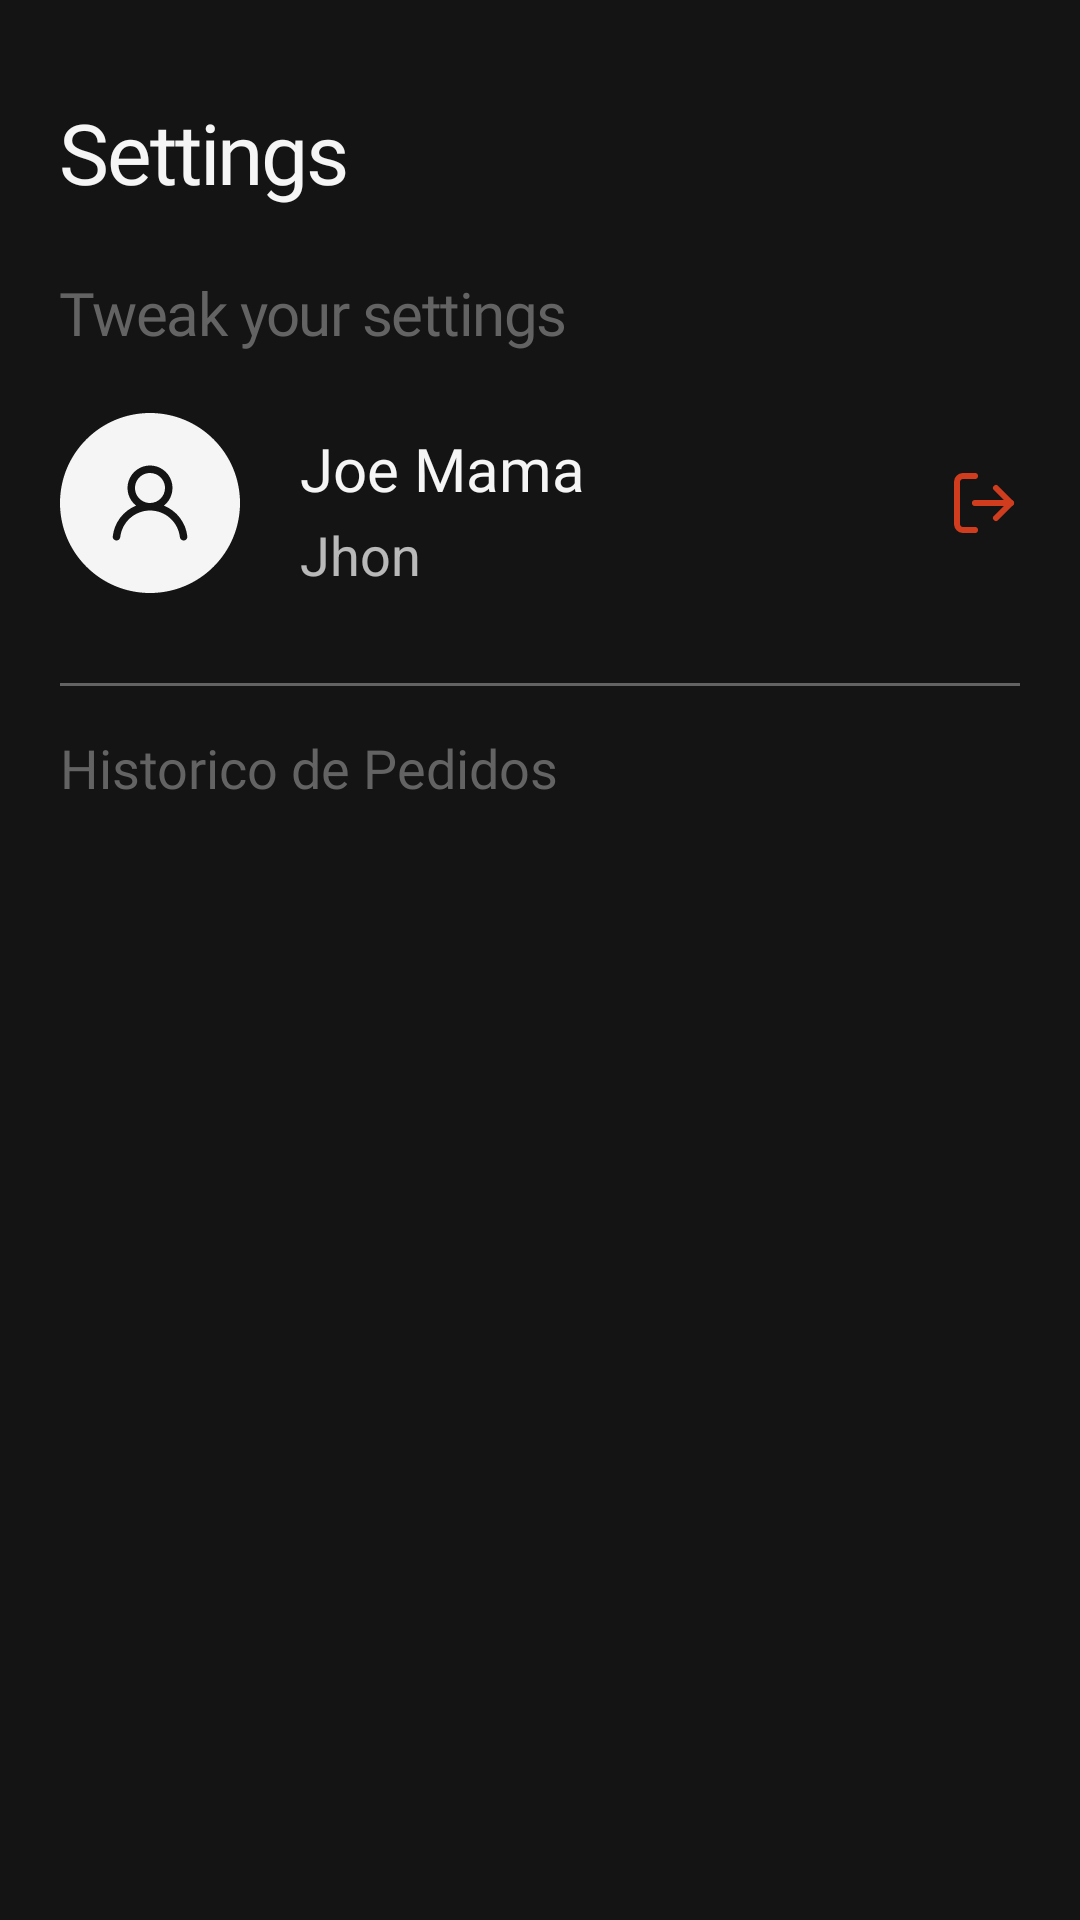

Icon click points for this 1080w x 1920h phone screenshot, format (x=x, y=y):
log out: (x=984, y=503)
user: (x=150, y=503)
